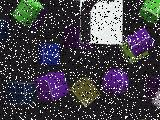Right: (80, 0, 122, 45)
